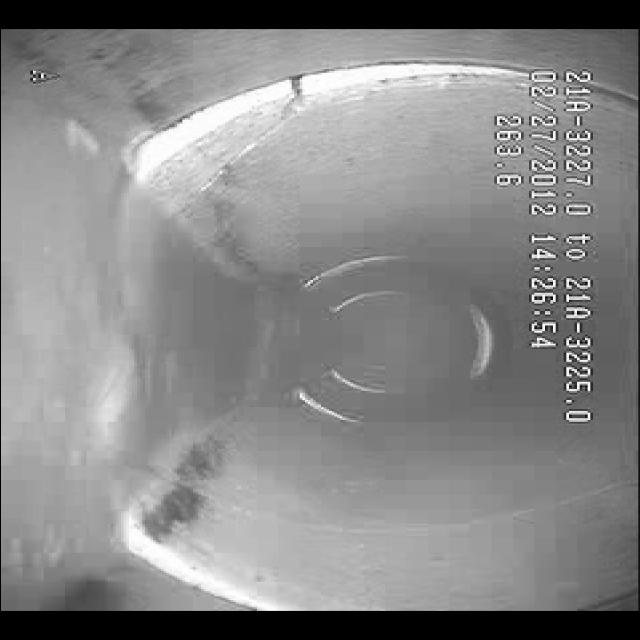Fracture: (179, 82, 343, 210)
